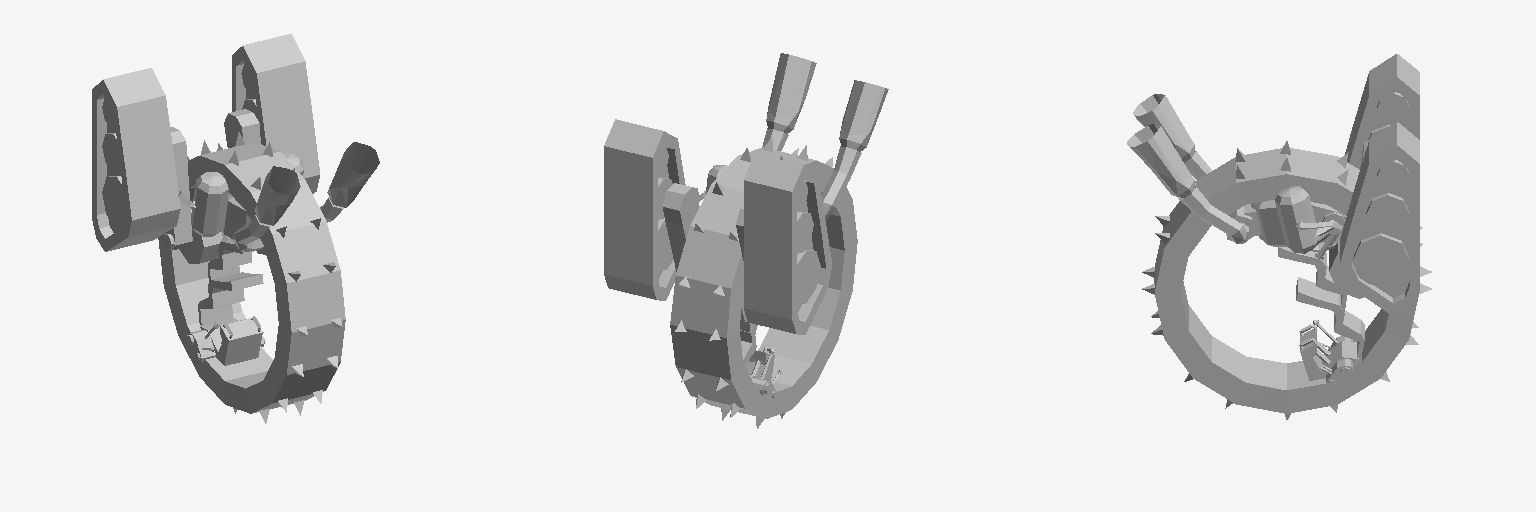
Rendered from mount_10thzuoji1_4.obj.
The picture shows the model from 3 angles: view 1: azimuth 30°, elevation 25°; view 2: azimuth 150°, elevation 25°; view 3: azimuth 270°, elevation 25°; orthographic projection.
Visible parts, largest first — view 1: Object01, Mount_10thZuoji1_4_ld, Mount_10thZuoji1_4, tx_04, Object06, tx_02, tx_03, Object05, Object04, Object03; view 2: Mount_10thZuoji1_4_ld, Object01, Mount_10thZuoji1_4, tx_04, tx_02, tx_03, Object04, Object03; view 3: Object01, Mount_10thZuoji1_4, Mount_10thZuoji1_4_ld, Object06, Object04, tx_02, tx_03, Object02, Object03, tx_04, Object05.
Boxes of the visible parts, box(x1,y1,x2,y2) form: Object01: box(158, 132, 345, 423); Mount_10thZuoji1_4_ld: box(92, 33, 319, 251); Mount_10thZuoji1_4: box(107, 89, 365, 365); tx_04: box(221, 147, 325, 408); Object06: box(178, 153, 303, 236); tx_02: box(330, 142, 379, 187); tx_03: box(257, 166, 300, 205); Object05: box(163, 209, 229, 263); Object04: box(102, 176, 125, 229); Object03: box(102, 99, 257, 173); Mount_10thZuoji1_4_ld: box(604, 119, 831, 334); Object01: box(670, 137, 857, 428); Mount_10thZuoji1_4: box(658, 98, 878, 398); tx_04: box(691, 152, 795, 413); tx_02: box(768, 53, 816, 117); tx_03: box(842, 80, 888, 135); Object04: box(658, 217, 820, 303); Object03: box(658, 178, 813, 252); Object01: box(1142, 141, 1431, 419); Mount_10thZuoji1_4: box(1151, 92, 1409, 387); Mount_10thZuoji1_4_ld: box(1340, 54, 1419, 316); Object06: box(1275, 186, 1343, 252); Object04: box(1352, 233, 1409, 287); tx_02: box(1127, 124, 1191, 180); tx_03: box(1133, 94, 1191, 145); Object02: box(1377, 92, 1409, 190); Object03: box(1366, 125, 1409, 234); tx_04: box(1154, 157, 1357, 283); Object05: box(1329, 241, 1363, 298).
Size of the model in its own units: 171 by 272 by 240.